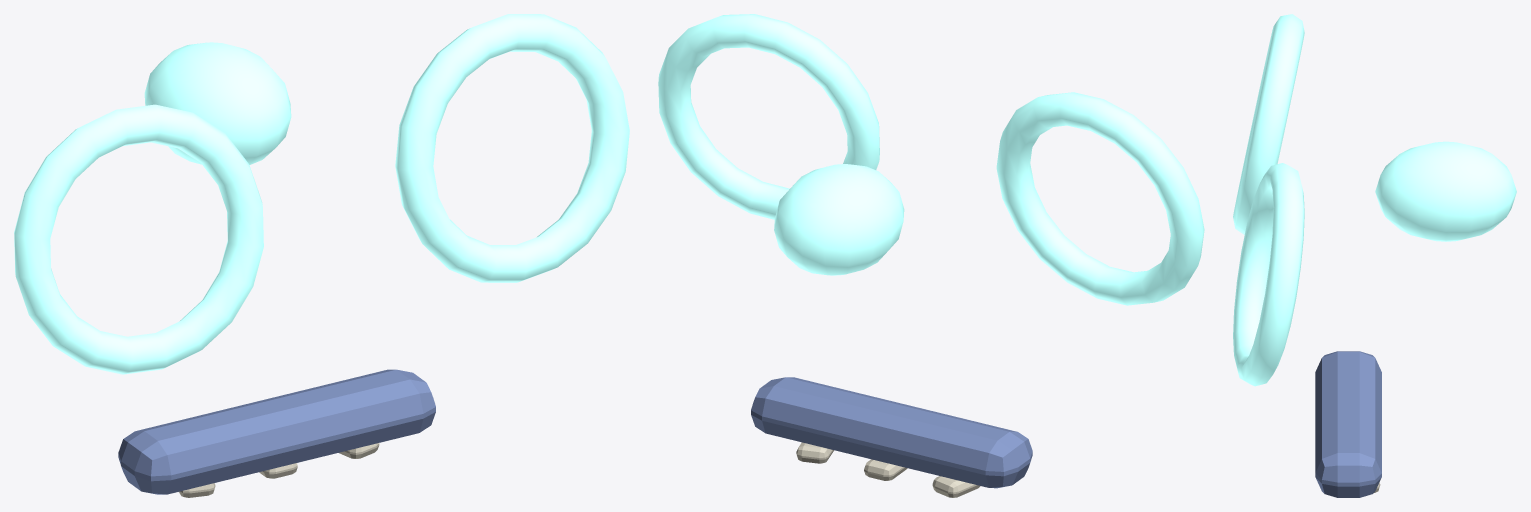
Rendered from hero_06_detail.glb.
The picture shows the model from 3 angles, left to right: view 1: azimuth 30°, elevation 25°; view 2: azimuth 150°, elevation 25°; view 3: azimuth 270°, elevation 25°; orthographic projection. The views are drawn at different scales.
Parts seen in each view (by area): view 1: Orwin_TempleOrbit_-1, Orwin_TempleOrbit_1, Orwin_RuneBrow, Orwin_TranslationStone; view 2: Orwin_TempleOrbit_-1, Orwin_RuneBrow, Orwin_TempleOrbit_1, Orwin_TranslationStone, Orwin_RuneMark_0, Orwin_RuneMark_1; view 3: Orwin_TempleOrbit_1, Orwin_TranslationStone, Orwin_RuneBrow, Orwin_TempleOrbit_-1.
Part boxes in pixels (bbox=[...]): Orwin_TempleOrbit_-1: bbox=[14, 104, 263, 374]; Orwin_TempleOrbit_1: bbox=[395, 14, 629, 282]; Orwin_RuneBrow: bbox=[118, 369, 435, 494]; Orwin_TranslationStone: bbox=[144, 42, 291, 164]; Orwin_TempleOrbit_-1: bbox=[996, 92, 1204, 305]; Orwin_RuneBrow: bbox=[751, 377, 1032, 488]; Orwin_TempleOrbit_1: bbox=[658, 14, 879, 219]; Orwin_TranslationStone: bbox=[774, 164, 904, 275]; Orwin_RuneMark_0: bbox=[932, 476, 980, 497]; Orwin_RuneMark_1: bbox=[864, 459, 907, 480]; Orwin_TempleOrbit_1: bbox=[1233, 163, 1304, 386]; Orwin_TranslationStone: bbox=[1375, 141, 1516, 241]; Orwin_RuneBrow: bbox=[1315, 351, 1381, 497]; Orwin_TempleOrbit_-1: bbox=[1233, 14, 1304, 234].
Size of the model in its own units: 0.6544 by 0.4481 by 0.3205.
